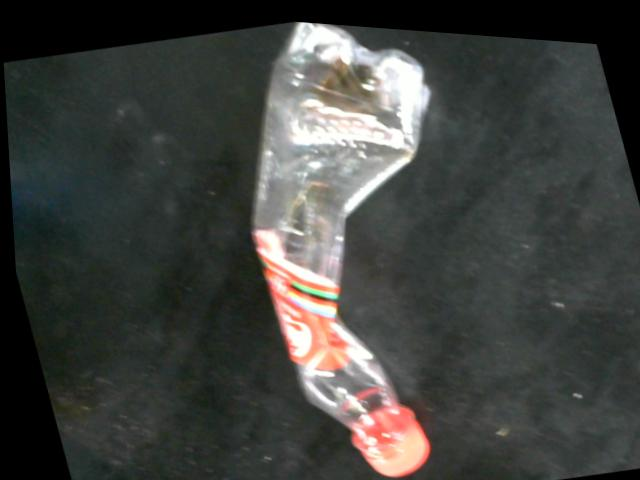bottle: (247, 17, 432, 474)
